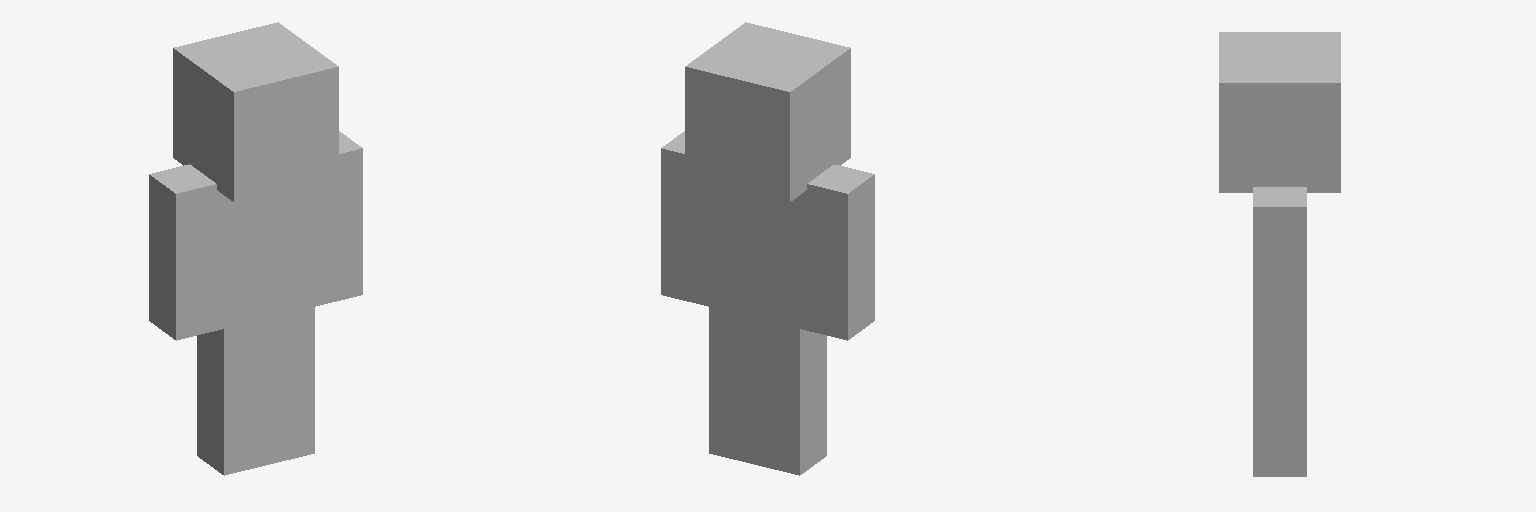
Rendered from zombie.obj.
The picture shows the model from 3 angles: view 1: azimuth 30°, elevation 25°; view 2: azimuth 150°, elevation 25°; view 3: azimuth 270°, elevation 25°; orthographic projection.
Visible parts, largest first — view 1: Hat Layer, LeftArm, Body, LeftLeg, RightLeg, RightArm; view 2: Hat Layer, LeftArm, Body, LeftLeg, RightLeg, RightArm; view 3: Hat Layer, RightArm, RightLeg.
Boxes of the visible parts, box(x1,y1,x2,y2) form: Hat Layer: box(173, 22, 338, 201); LeftArm: box(149, 164, 222, 340); Body: box(223, 182, 315, 328); LeftLeg: box(197, 318, 270, 475); RightLeg: box(268, 307, 314, 464); RightArm: box(316, 131, 362, 305); Hat Layer: box(685, 22, 850, 201); LeftArm: box(801, 164, 874, 340); Body: box(708, 182, 800, 328); LeftLeg: box(753, 318, 826, 475); RightLeg: box(709, 307, 755, 464); RightArm: box(661, 131, 707, 305); Hat Layer: box(1219, 32, 1340, 192); RightArm: box(1253, 187, 1306, 353); RightLeg: box(1253, 354, 1306, 476).
Bounding box in the file's own units: 1 × 2.03 × 0.5625.